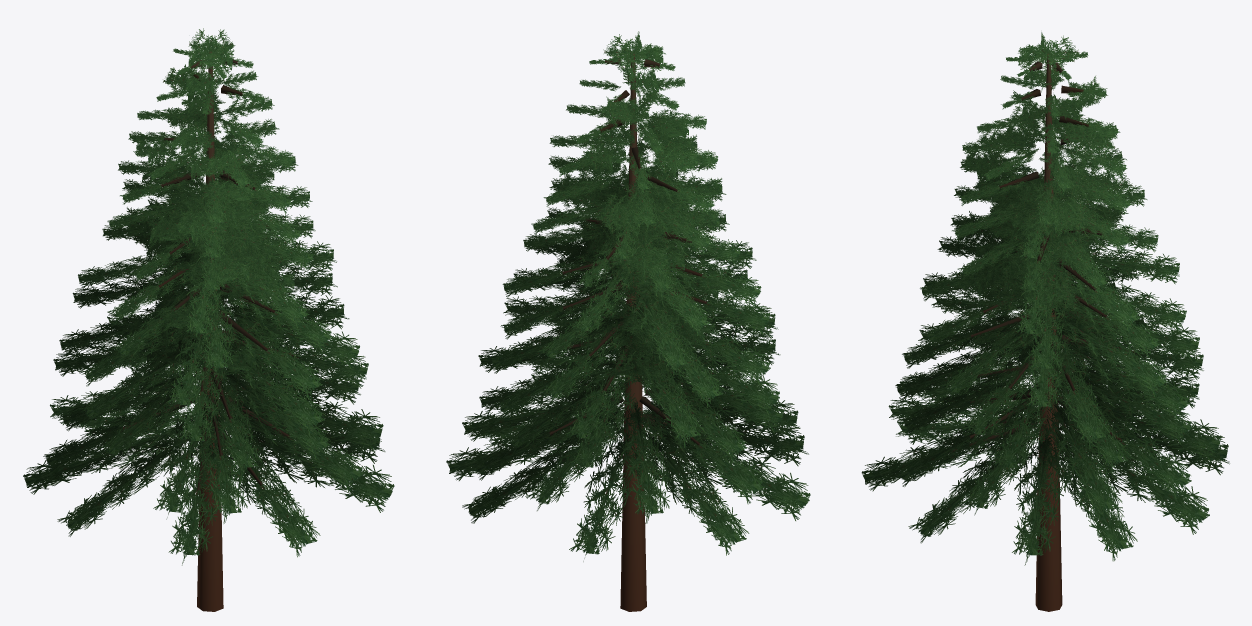
File: tree-conifera.glb
3 renders of one model, left to right at view 1: azimuth 30°, elevation 25°; view 2: azimuth 150°, elevation 25°; view 3: azimuth 270°, elevation 25°, orthographic.
Visible parts, largest first — view 1: tree-conifera; view 2: tree-conifera; view 3: tree-conifera.
Part boxes in pixels (x1,y1,x2,y2): tree-conifera: (23,28,394,611); tree-conifera: (446,31,810,611); tree-conifera: (861,32,1229,611).
Size of the model in its own units: 9.99 by 16.37 by 9.88.
2 materials, 1 textured.
